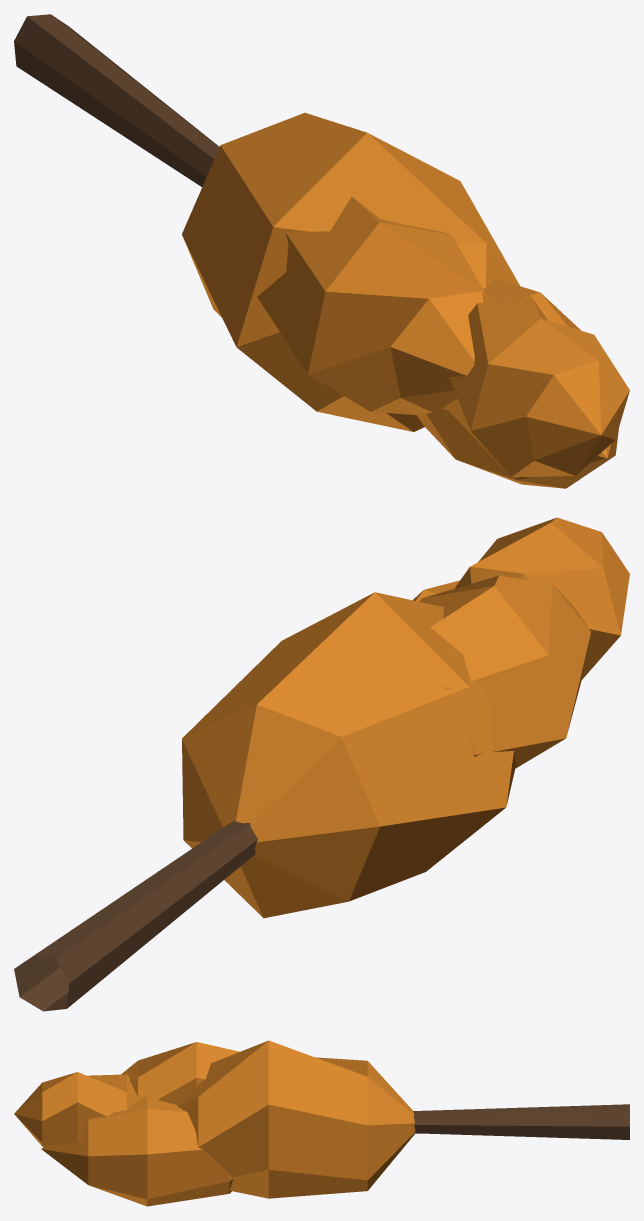
Rendered from dying_0.glb.
3 renders of one model, top to bottom at view 1: azimuth 30°, elevation 25°; view 2: azimuth 150°, elevation 25°; view 3: azimuth 270°, elevation 25°, orthographic. The views are drawn at different scales.
Visible parts, largest first — view 1: tree_11_dying_0; view 2: tree_11_dying_0; view 3: tree_11_dying_0.
Part boxes in pixels (bbox=[...]): tree_11_dying_0: bbox=[14, 14, 629, 488]; tree_11_dying_0: bbox=[14, 517, 629, 1011]; tree_11_dying_0: bbox=[14, 1040, 629, 1206].
Size of the model in its own units: 10.83 by 11.56 by 41.78.
